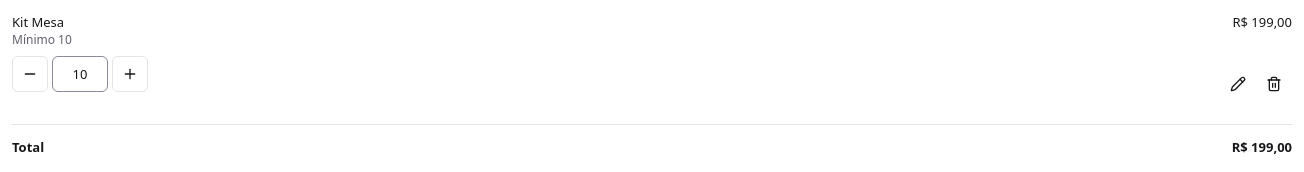
Test: Carrinho › digitar abaixo do mínimo volta para ele ao sair do campo
Step 1. Replace the text in the field named "Quantidade de Kit Mesa" with "4" → (80, 74), box [52,56,108,92]
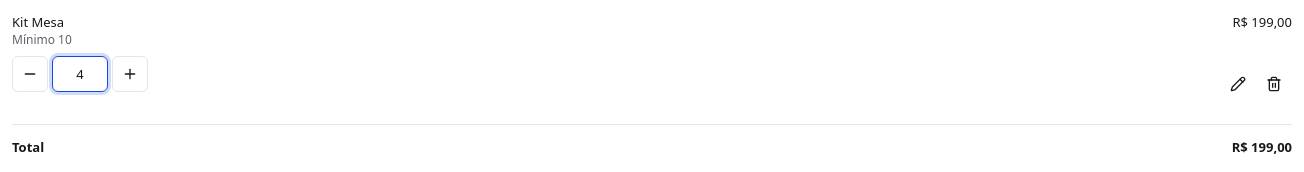
Step 2. Press Tab
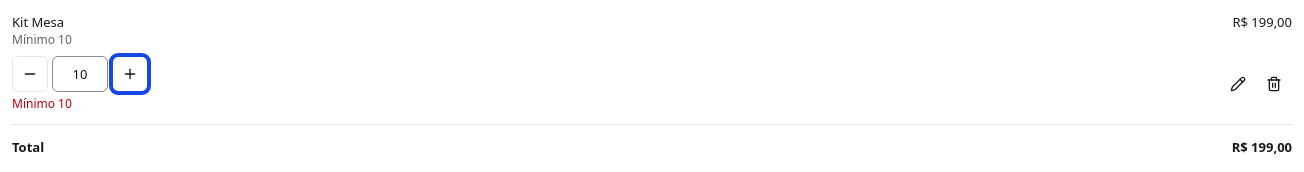
Now the field named "Quantidade de Kit Mesa" holds "10", box [52,56,108,92]
